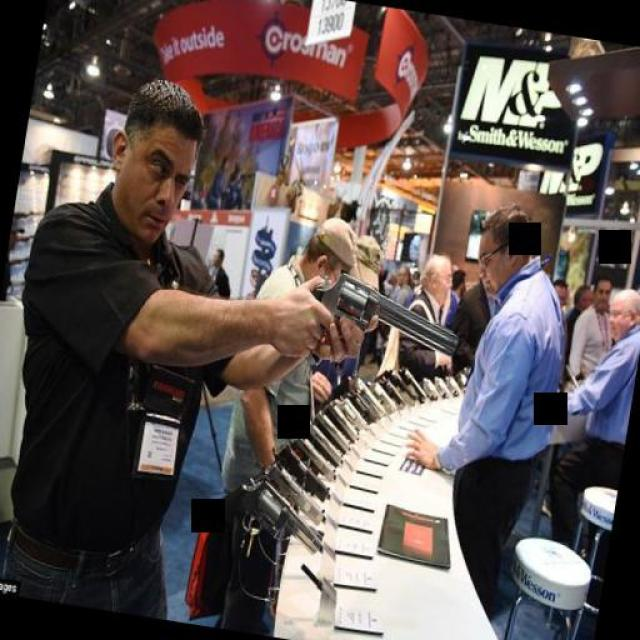gun: (287, 259, 465, 365)
